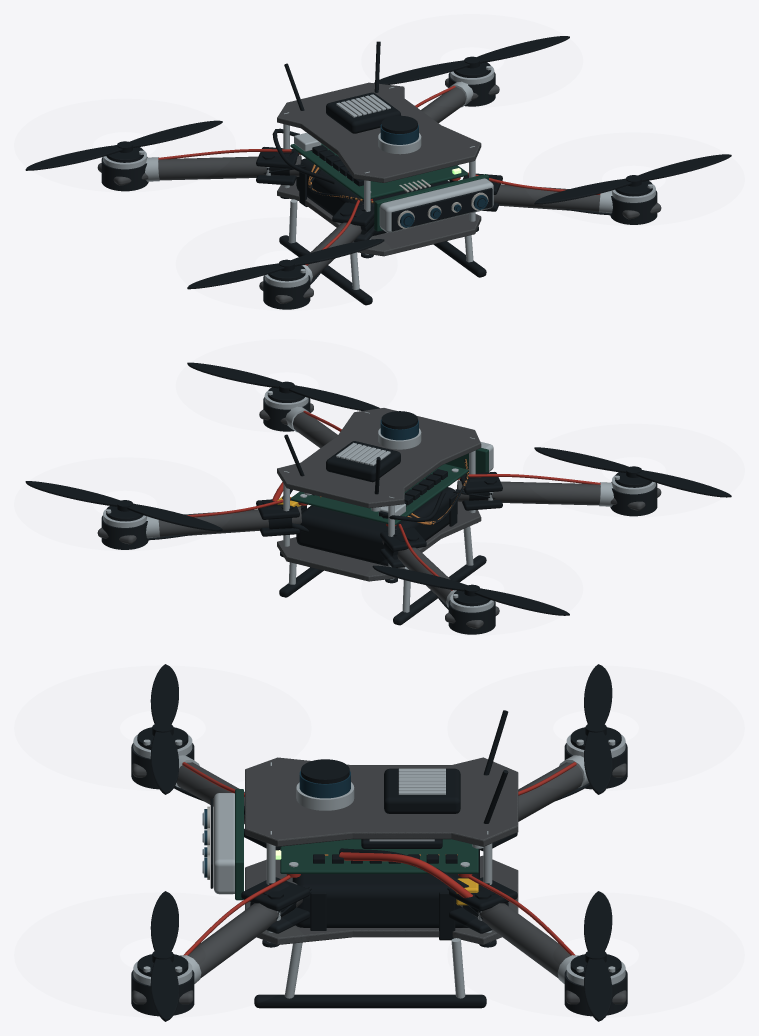
Rendered from research-quad.glb.
3 renders of one model, top to bottom at view 1: azimuth 30°, elevation 25°; view 2: azimuth 150°, elevation 25°; view 3: azimuth 270°, elevation 25°, orthographic. The views are drawn at different scales.
Parts seen in each view (by area): view 1: part (×12); view 2: part (×10); view 3: part (×12).
Part boxes in pixels (<box>): part (×12): <box>25,36,731,309</box>; part (×10): <box>25,362,731,634</box>; part (×12): <box>131,664,627,1021</box>.
Size of the model in its own units: 3.73 by 1.12 by 3.24.
14 materials, 1 textured.
